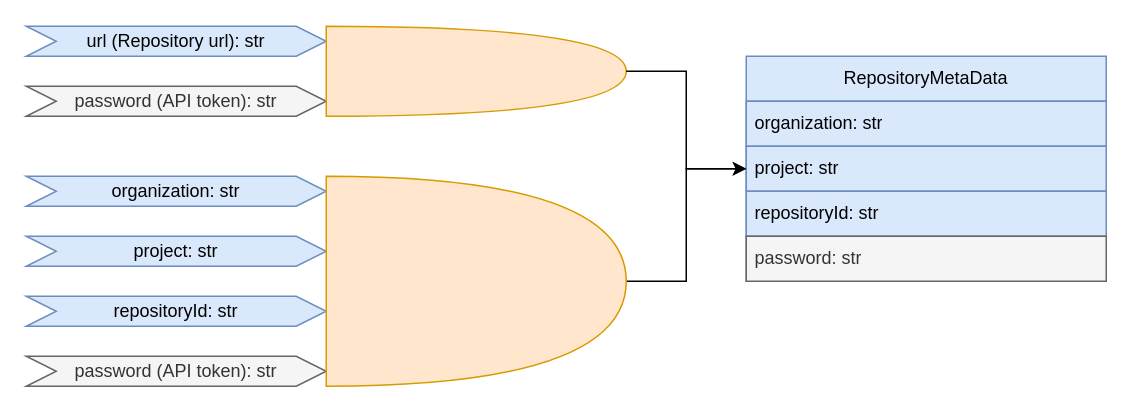
This 1133x413 diagram has some shape labels left out. Each missing label, with the centre of its shape:
"RepositoryMetaData() (__init__)" goes at (475,280).
"RepositoryMetaData.from_url()" goes at (475,70).
